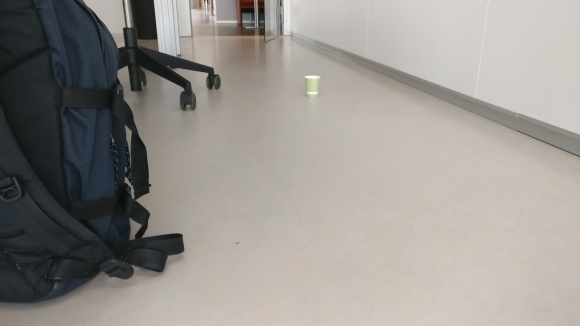cup: (302, 74, 321, 98)
